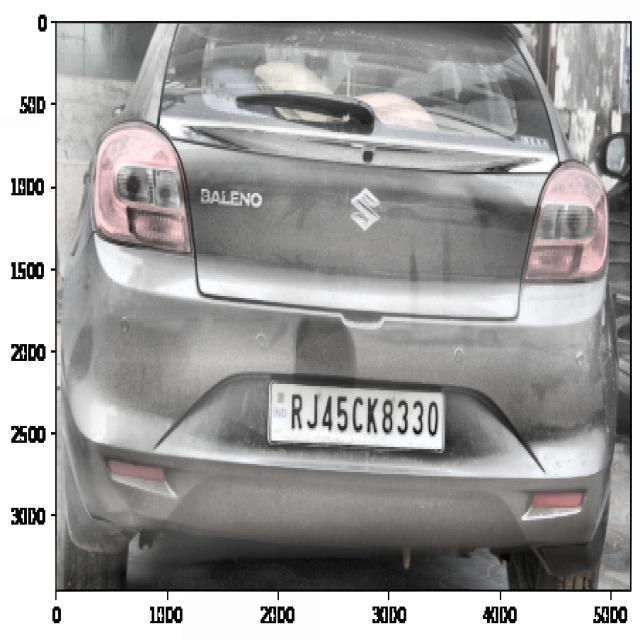license_plate: (285, 382, 443, 453)
